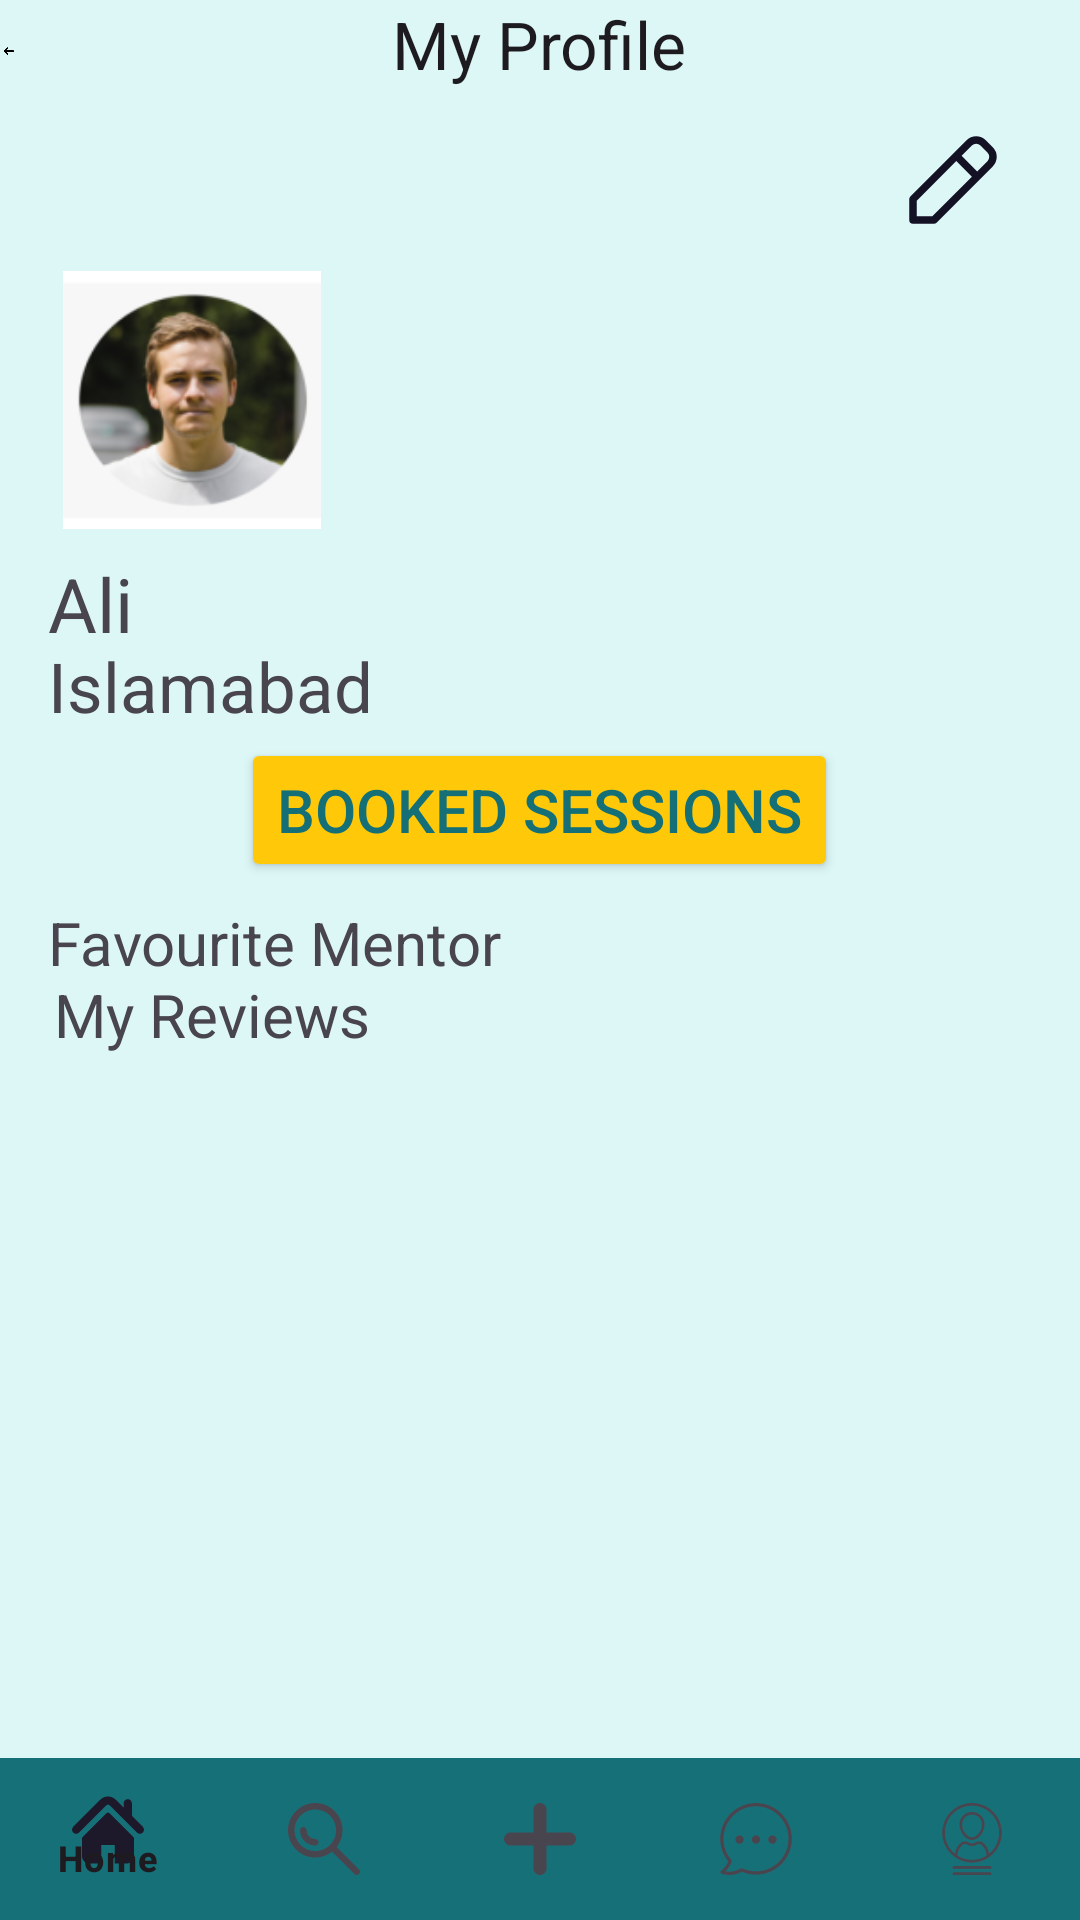

Screen size 1080×1920. Icon name, then its box in pixels as (x1, y1, x2, y2):
edit: (909, 136, 997, 224)
